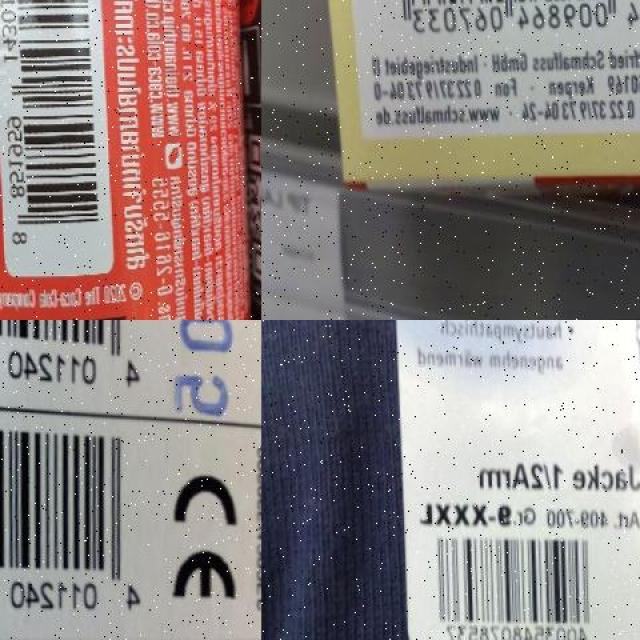Barcode: (0, 404, 141, 634), (0, 0, 101, 260), (423, 528, 592, 640), (370, 0, 640, 46)
